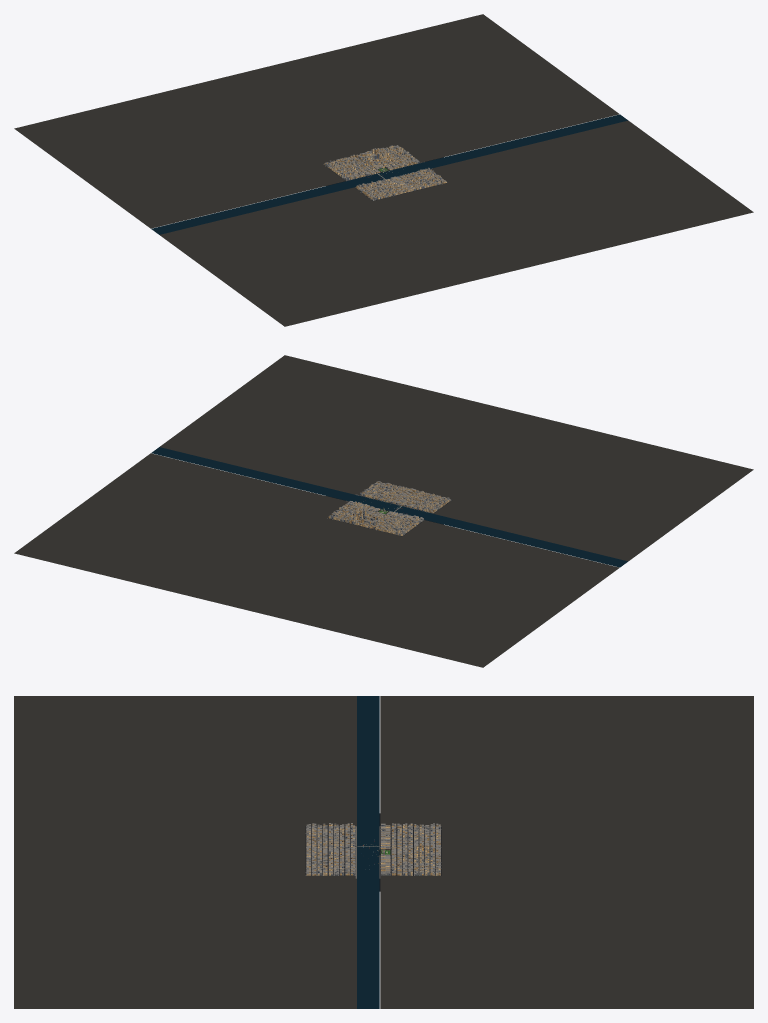
Rendered from hotel_site.glb.
The picture shows the model from 3 angles, top to bottom: view 1: azimuth 30°, elevation 25°; view 2: azimuth 150°, elevation 25°; view 3: azimuth 270°, elevation 25°; orthographic projection. The views are drawn at different scales.
Visible parts, largest first — view 1: OsmG_CGround, River_Water, City_Blocks_CSlab, Far_Blocks_CSlab, City_Blocks_CityStone, City_Blocks_CityWarm, City_Blocks_CityCool; view 2: OsmG_CGround, River_Water, City_Blocks_CSlab, Far_Blocks_CSlab, City_Blocks_CityStone, City_Blocks_CityCool; view 3: OsmG_CGround, River_Water, City_Blocks_CSlab, Far_Blocks_CSlab, City_Asphalt_CAsphalt, Far_Asphalt_CAsphalt, City_Blocks_CityStone, City_Blocks_CityWarm, City_Blocks_CityCool.
Part boxes in pixels (left/top/right/bottom): OsmG_CGround: left=14, top=14, right=753, bottom=326; River_Water: left=151, top=114, right=627, bottom=234; City_Blocks_CSlab: left=324, top=145, right=419, bottom=179; Far_Blocks_CSlab: left=357, top=167, right=446, bottom=199; City_Blocks_CityStone: left=324, top=146, right=412, bottom=179; City_Blocks_CityWarm: left=327, top=147, right=416, bottom=178; City_Blocks_CityCool: left=325, top=146, right=419, bottom=180; OsmG_CGround: left=14, top=355, right=753, bottom=667; River_Water: left=151, top=447, right=627, bottom=567; City_Blocks_CSlab: left=329, top=501, right=423, bottom=535; Far_Blocks_CSlab: left=360, top=481, right=450, bottom=512; City_Blocks_CityStone: left=333, top=504, right=419, bottom=535; City_Blocks_CityCool: left=330, top=501, right=423, bottom=535; OsmG_CGround: left=14, top=696, right=753, bottom=1008; River_Water: left=357, top=696, right=379, bottom=1008; City_Blocks_CSlab: left=380, top=823, right=440, bottom=875; Far_Blocks_CSlab: left=306, top=823, right=355, bottom=875; City_Asphalt_CAsphalt: left=379, top=826, right=441, bottom=875; Far_Asphalt_CAsphalt: left=305, top=826, right=356, bottom=875; City_Blocks_CityStone: left=381, top=824, right=440, bottom=875; City_Blocks_CityWarm: left=381, top=825, right=440, bottom=875; City_Blocks_CityCool: left=381, top=824, right=440, bottom=875.
Size of the model in its own units: 12000 by 265 by 12000.
Materials: 77 (4 with a texture image).
